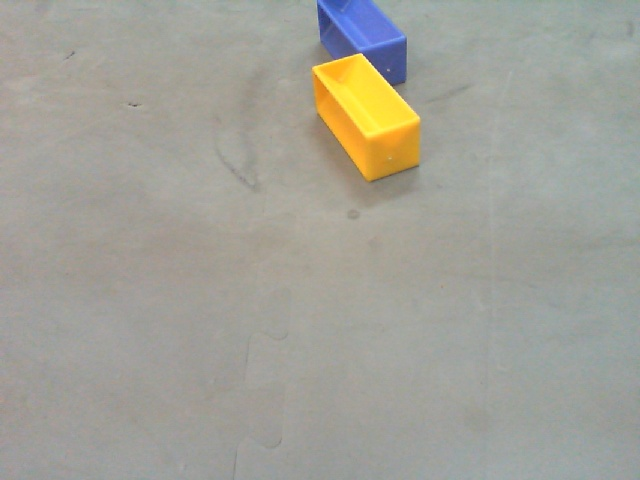BlueSample: (315, 1, 410, 87)
YellowSample: (310, 52, 424, 186)
